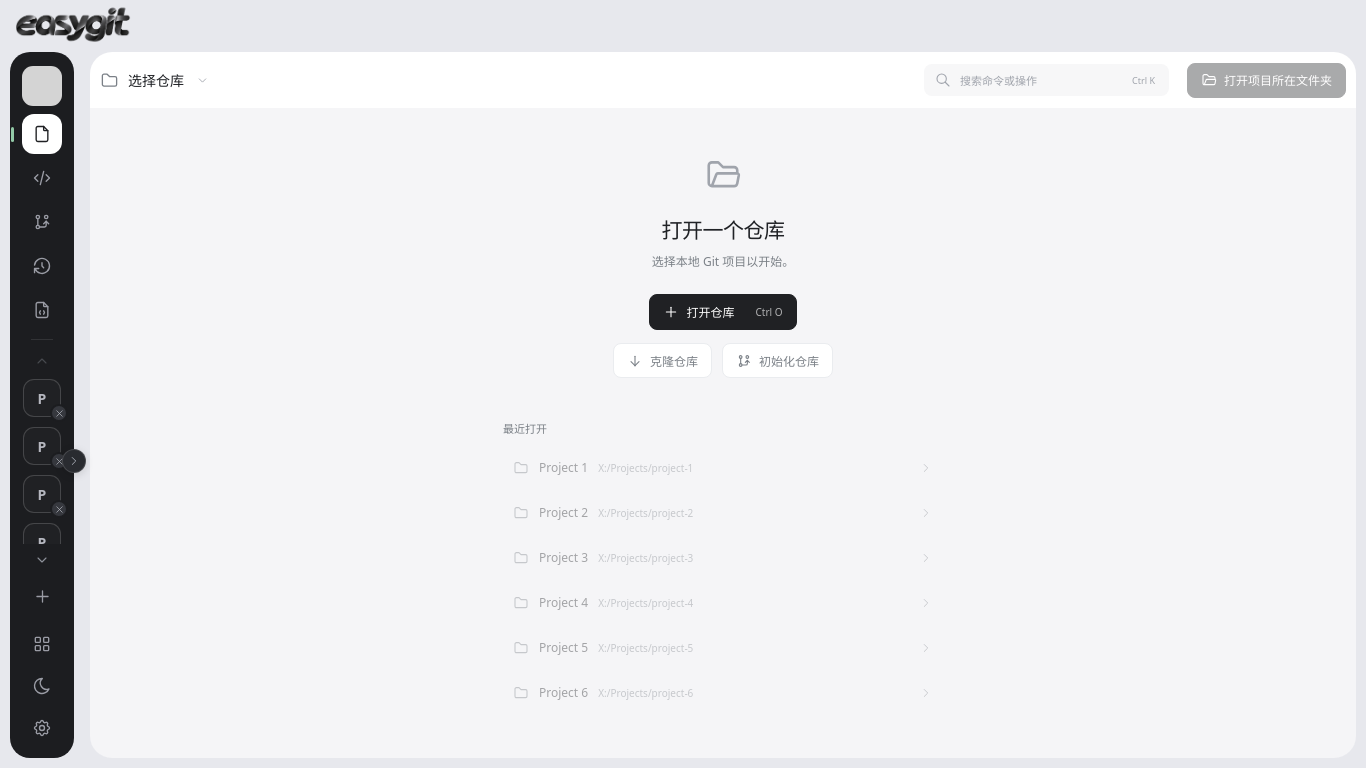
Test case: 侧栏项目展开区域 › 恰好 6 个项目时也显示入口并可展开全部项目
Click the button named "展开项目列表": [74, 460] box [62,448,86,472]
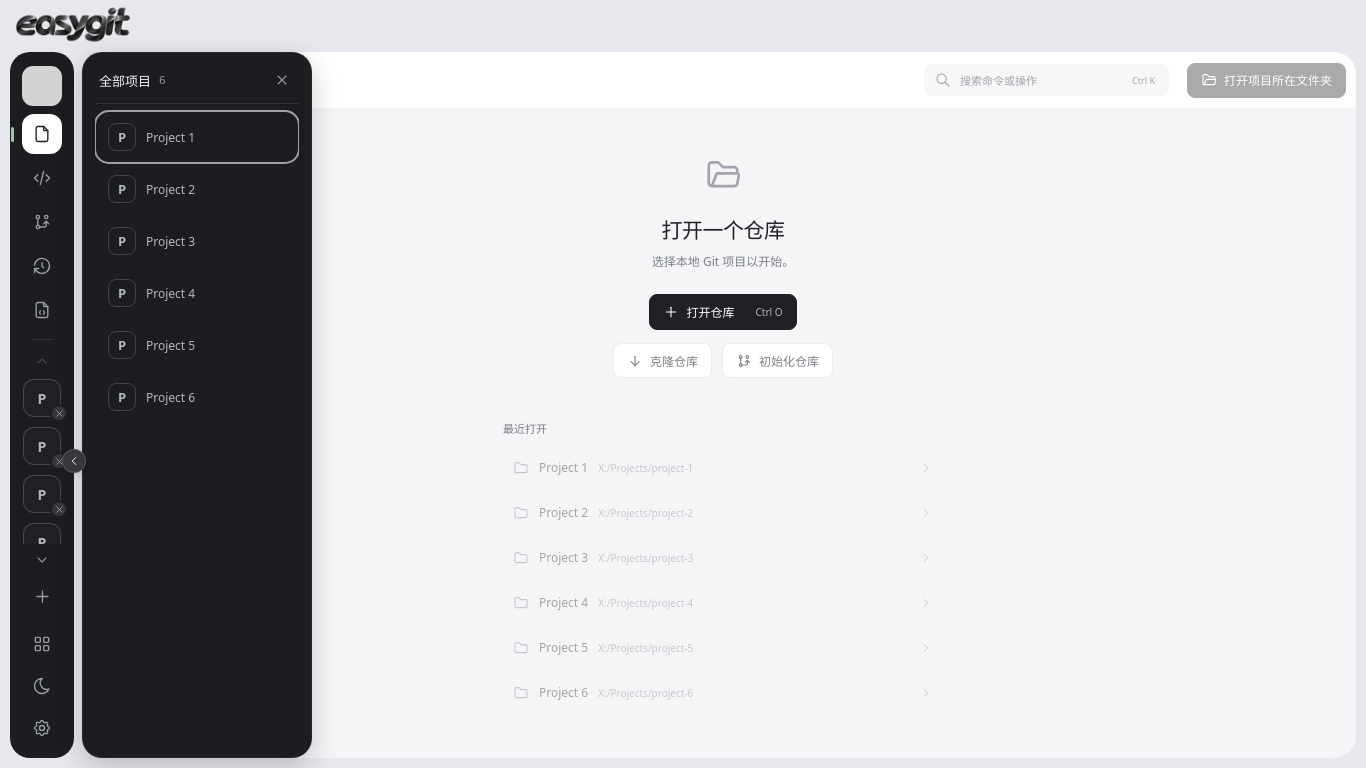
Result: the number of buttons with class "repository-expanded-item" is 6 at [98,114,296,160]; [98,166,296,212]; [98,218,296,264]; [98,270,296,316]; [98,322,296,368]; [98,374,296,420]
Result: the button named "收起项目列表" is expanded at [62,448,86,472]
